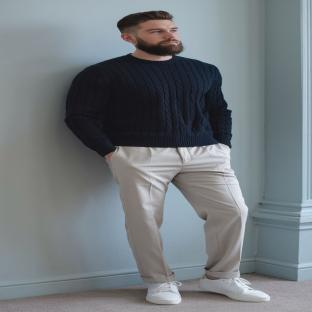Human: (65, 11, 269, 304)
